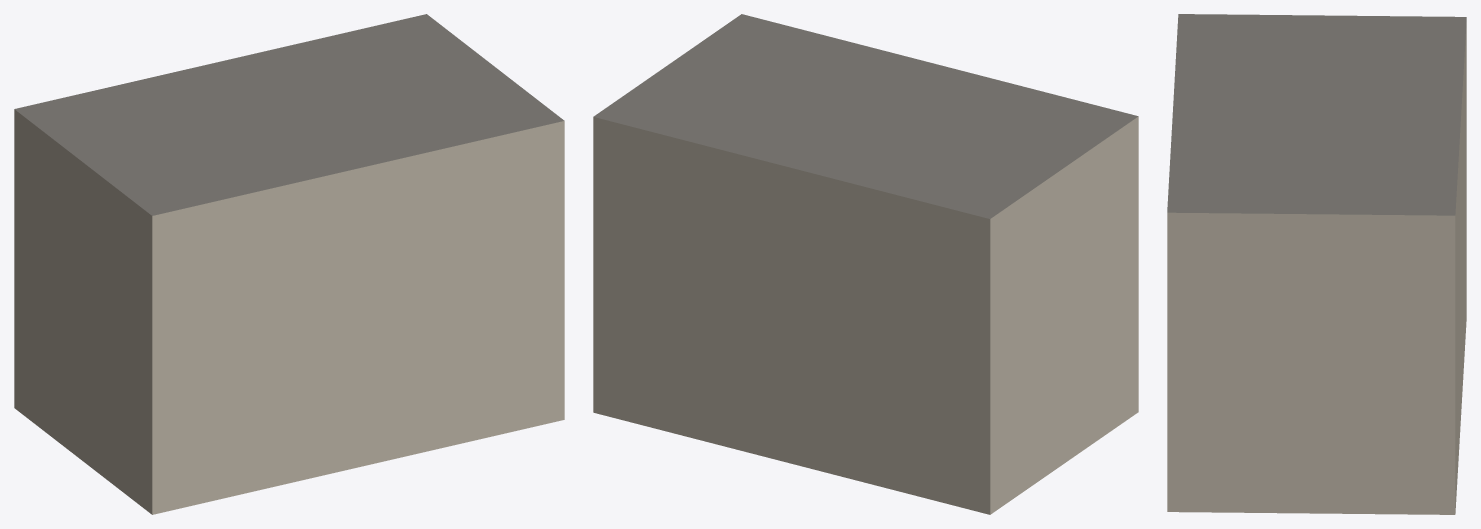
3 views of the same model, side by side, from view 1: azimuth 30°, elevation 25°; view 2: azimuth 150°, elevation 25°; view 3: azimuth 270°, elevation 25° (orthographic).
Parts seen in each view (by area): view 1: HP-w1435272422; view 2: HP-w1435272422; view 3: HP-w1435272422.
Boxes of the visible parts, bbox=[...] form: HP-w1435272422: bbox=[14, 14, 564, 514]; HP-w1435272422: bbox=[593, 14, 1138, 514]; HP-w1435272422: bbox=[1167, 14, 1466, 514].
Bounding box in the file's own units: 26.01 × 18 × 16.33.
